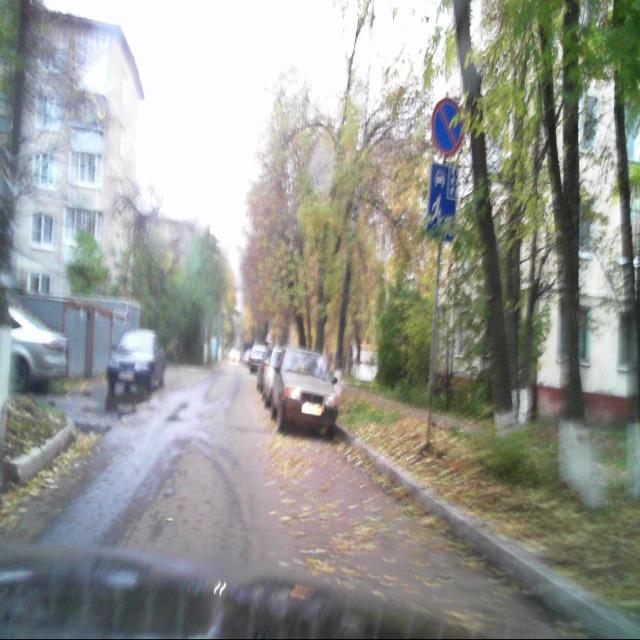road sign: (427, 164, 457, 241)
